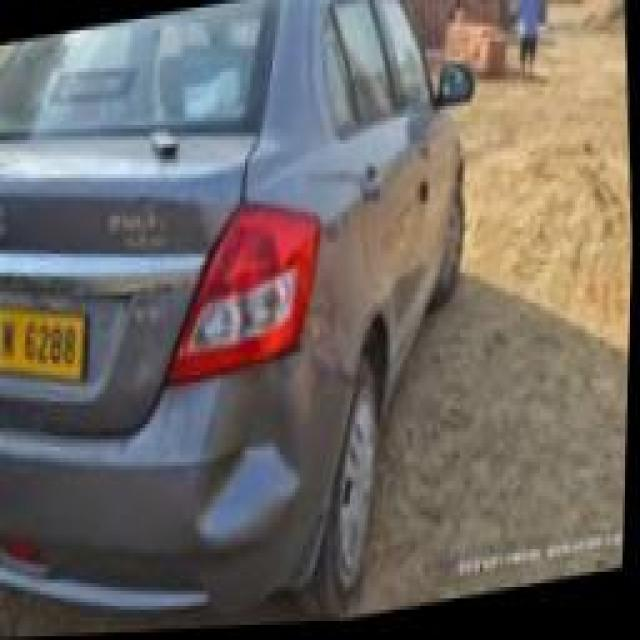Bumper: (136, 362, 313, 598)
